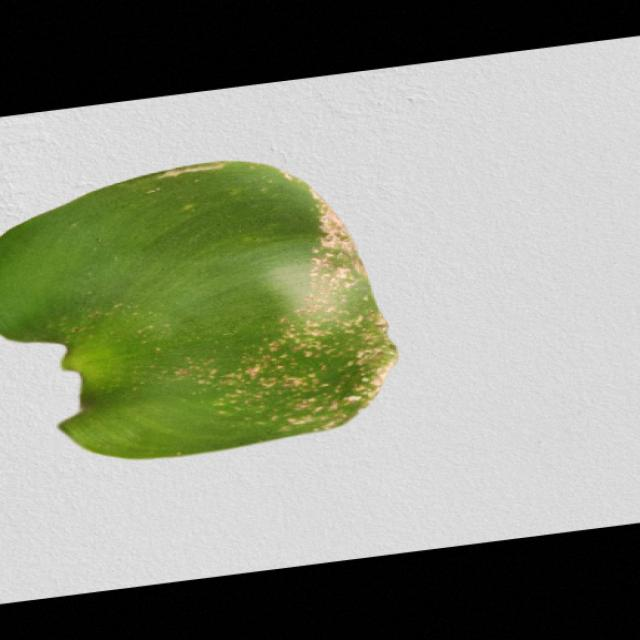daun berpenyakit bercak: (2, 162, 396, 459)
